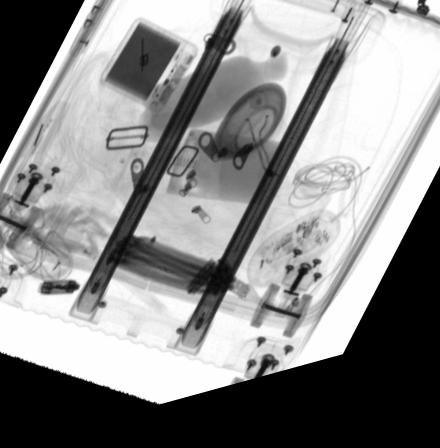Powerbank: (100, 25, 197, 120)
